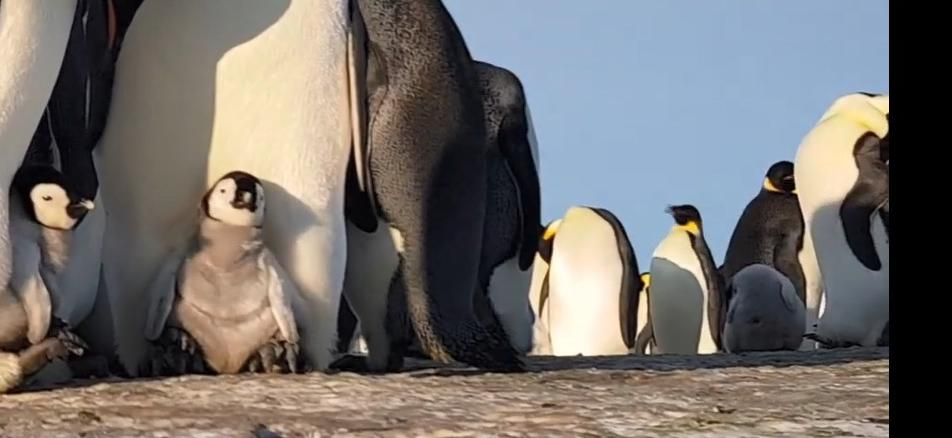Emperor Penguin: (114, 0, 366, 368), (139, 164, 324, 358), (0, 0, 175, 146), (542, 202, 636, 374), (738, 160, 812, 362), (656, 188, 730, 366)
